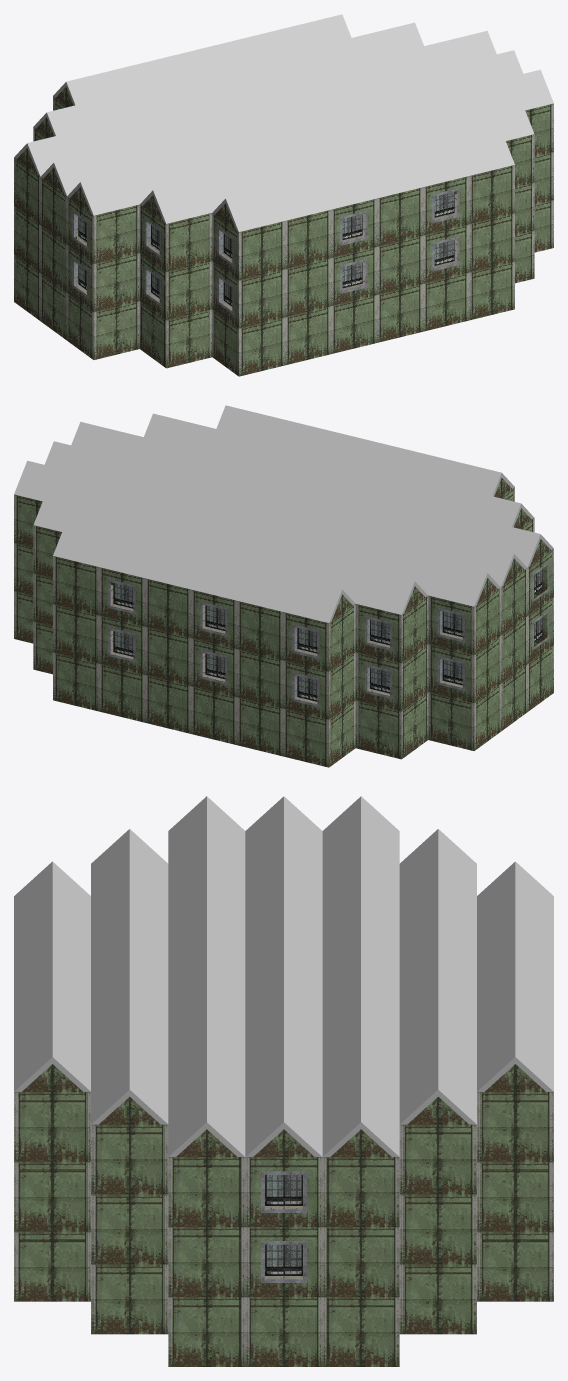
File: block-east.obj
3 views of the same model, one above another, from view 1: azimuth 30°, elevation 25°; view 2: azimuth 150°, elevation 25°; view 3: azimuth 270°, elevation 25° (orthographic). The views are drawn at different scales.
Visible parts, largest first — view 1: block-east; view 2: block-east; view 3: block-east.
Boxes of the visible parts, x1,y1,x2,y2 form: block-east: (14, 14, 553, 376); block-east: (14, 405, 553, 767); block-east: (14, 796, 553, 1366).
Size of the model in its own units: 14 by 4.9 by 9.8.
